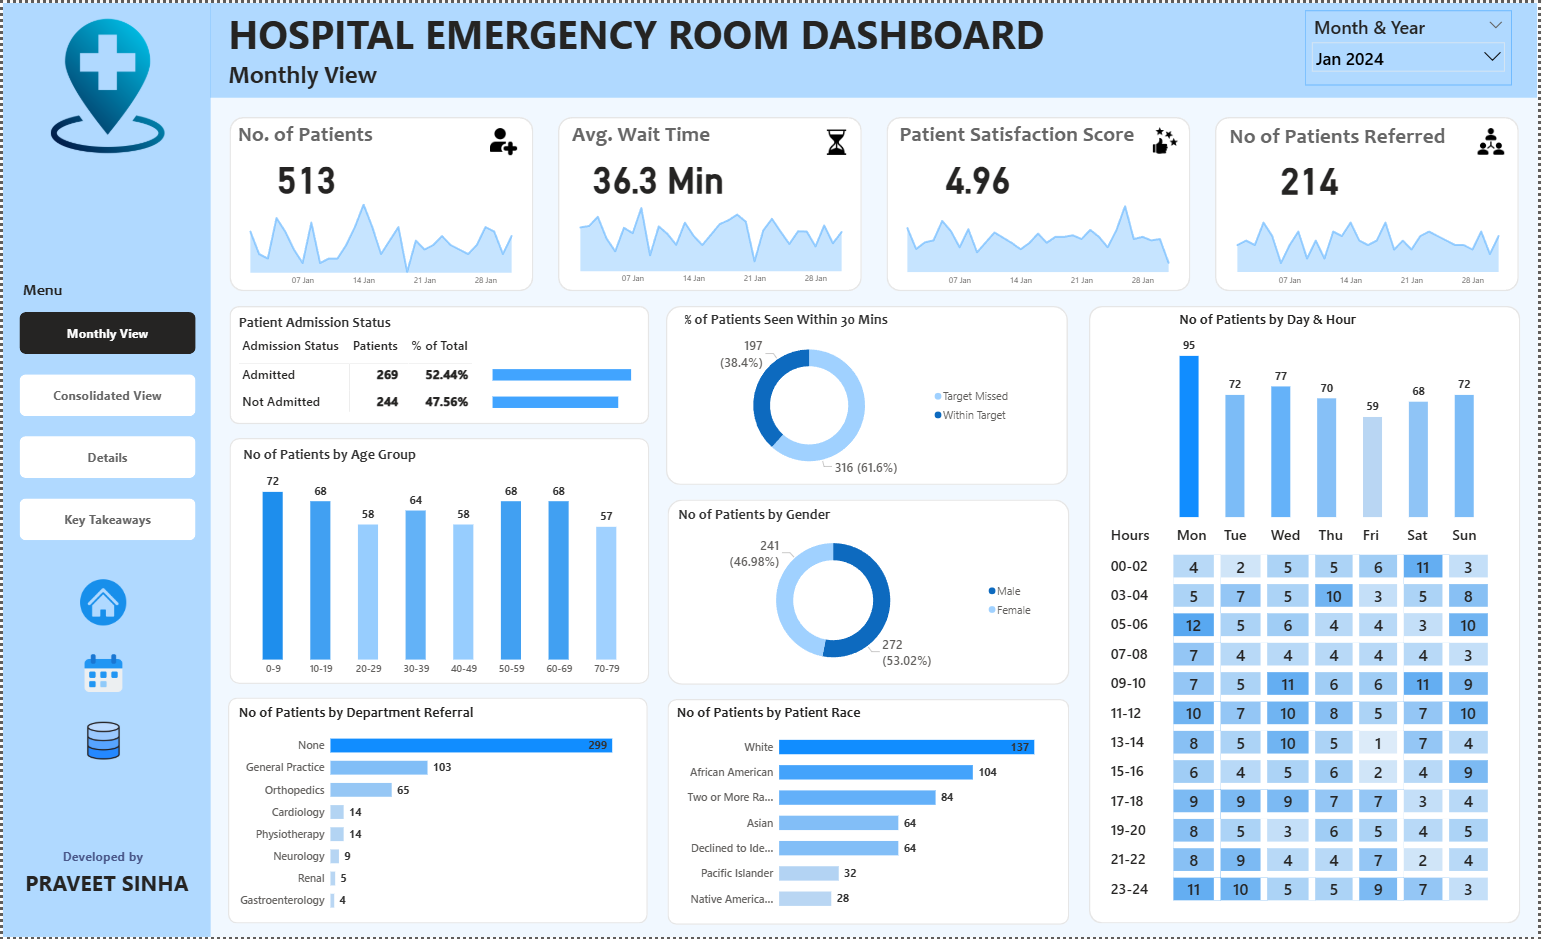

The page's visual inventory and layout, read from the dashboard file:
{"tool":"powerbi","page":{"name":"Monthly View","canvas":[2300,1400],"ordinal":0},"visuals":[{"type":"shape","box":[338.5,171.3,455.5,261.2],"z":0},{"type":"shape","box":[1324.7,171.3,455.5,261.2],"z":1000},{"type":"shape","box":[0,0,311.3,1399.9],"z":2000},{"type":"shape","box":[831.6,171.3,455.5,261.2],"z":3000},{"type":"card","fields":{"Values":["Hospital ER_Hospital ER.No of Patients"]},"box":[374,225.7,160.9,66.9],"z":4000},{"type":"card","fields":{"Values":["Hospital ER_Hospital ER.Avg Wait Time"]},"box":[869.2,225.7,223.6,66.9],"z":5000},{"type":"card","fields":{"Values":["Avg(Hospital ER_Hospital ER.Patient Satisfaction Score)"]},"box":[1381.4,225.6,160.9,66.9],"z":6000},{"type":"shape","box":[1817.8,171.3,455.5,261.2],"z":7000},{"type":"card","fields":{"Values":["Hospital ER_Hospital ER.Measure"]},"box":[1876.7,227.6,160.9,66.9],"z":8000},{"type":"shape","box":[311.3,0,1989.1,142.1],"z":9000},{"type":"slicer","fields":{"Values":["Calendar Table.Month & Year"]},"box":[1950.8,12.2,309.8,112.1],"z":10000},{"type":"textbox","box":[339.2,171.3,227.8,56.5],"z":11000},{"type":"textbox","box":[841.3,171.3,231.1,56.5],"z":12000},{"type":"textbox","box":[1331.2,172,377.5,55.8],"z":13000},{"type":"textbox","box":[1828.2,173.4,344.8,56.4],"z":14000},{"type":"areaChart","fields":{"Category":["Calendar Table.Date.Variation.Date Hierarchy.Year","Calendar Table.Date.Variation.Date Hierarchy.Quarter","Calendar Table.Date.Variation.Date Hierarchy.Month","Calendar Table.Date.Variation.Date Hierarchy.Day"],"Y":["Hospital ER_Hospital ER.No of Patients"]},"box":[348.4,288.1,435.5,145.2],"z":15000},{"type":"areaChart","fields":{"Category":["Calendar Table.Date.Variation.Date Hierarchy.Year","Calendar Table.Date.Variation.Date Hierarchy.Quarter","Calendar Table.Date.Variation.Date Hierarchy.Month","Calendar Table.Date.Variation.Date Hierarchy.Day"],"Y":["Avg(Hospital ER_Hospital ER.Patient Waittime)"]},"box":[842.1,285.9,435.5,145.2],"z":16000},{"type":"areaChart","fields":{"Category":["Calendar Table.Date.Variation.Date Hierarchy.Year","Calendar Table.Date.Variation.Date Hierarchy.Quarter","Calendar Table.Date.Variation.Date Hierarchy.Month","Calendar Table.Date.Variation.Date Hierarchy.Day"],"Y":["Avg(Hospital ER_Hospital ER.Patient Satisfaction Score)"]},"box":[1333.4,290.4,435.5,142.9],"z":17000},{"type":"areaChart","fields":{"Category":["Calendar Table.Date.Variation.Date Hierarchy.Year","Calendar Table.Date.Variation.Date Hierarchy.Quarter","Calendar Table.Date.Variation.Date Hierarchy.Month","Calendar Table.Date.Variation.Date Hierarchy.Day"],"Y":["Hospital ER_Hospital ER.Measure"]},"box":[1827.1,288.1,435.5,145.2],"z":18000},{"type":"textbox","box":[331.7,0,1281,88.9],"z":19000},{"type":"image","box":[46.9,17.9,218.9,212.2],"z":20000},{"type":"image","box":[1222.3,183.9,52.2,48.1],"z":21000},{"type":"image","box":[724.8,183.1,52.8,51.2],"z":22000},{"type":"image","box":[2198,181.8,62.7,50],"z":23000},{"type":"image","box":[1713.3,179.7,58.5,52.2],"z":24000},{"type":"shape","box":[338.9,455,629.1,177.3],"z":25000},{"type":"shape","box":[994.7,455,602.5,268.3],"z":26000},{"type":"shape","box":[1626.9,455,646.4,925.6],"z":27000},{"type":"shape","box":[996.2,743.7,602.5,277.7],"z":28000},{"type":"donutChart","title":"% of Patients Seen Within 30 Mins","fields":{"Y":["Hospital ER_Hospital ER.No of Patients"],"Category":["Hospital ER_Hospital ER.Waittime Status"]},"box":[1016.6,461,504.4,257.6],"z":29000},{"type":"donutChart","title":"No of Patients by Gender","fields":{"Y":["Hospital ER_Hospital ER.No of Patients"],"Category":["Hospital ER_Hospital ER.Full Gender"]},"box":[1007.2,753.1,547.5,257.3],"z":30000},{"type":"shape","box":[338.9,652.7,629.1,368.7],"z":31000},{"type":"pivotTable","title":"Patient Admission Status","fields":{"Rows":["Hospital ER_Hospital ER.Admission Status"],"Values":["Hospital ER_Hospital ER.No of Patients1","Hospital ER_Hospital ER.No of Patients"]},"box":[347.9,465.5,610,158.3],"z":32000},{"type":"barChart","fields":{"Category":["Hospital ER_Hospital ER.Admission Status"],"Y":["Hospital ER_Hospital ER.No of Patients"]},"box":[729.5,514.6,241.6,120.8],"z":33000},{"type":"clusteredColumnChart","fields":{"Category":["Hospital ER_Hospital ER.Age Group"],"Y":["Hospital ER_Hospital ER.No of Patients"]},"box":[354.6,662.7,599.3,354.6],"z":34000},{"type":"shape","box":[337.3,1041.7,629.1,338.9],"z":35000},{"type":"clusteredBarChart","fields":{"Category":["Hospital ER_Hospital ER.Department Referral"],"Y":["Hospital ER_Hospital ER.No of Patients"]},"box":[348.3,1049.6,602.5,324.8],"z":36000},{"type":"shape","box":[996.5,1043,602.2,338.4],"z":37000},{"type":"clusteredBarChart","fields":{"Y":["Hospital ER_Hospital ER.No of Patients"],"Category":["Hospital ER_Hospital ER.Patient Race"]},"box":[1005.8,1049.2,578.9,324.4],"z":38000},{"type":"pivotTable","fields":{"Columns":["Calendar Table.Day Name"],"Rows":["Hospital ER_Hospital ER.Waittime Interval"],"Values":["Hospital ER_Hospital ER.No of Patients"]},"box":[1649.4,776.5,606.9,583.6],"z":39000},{"type":"clusteredColumnChart","title":"No of Patients by Day & Hour","fields":{"Category":["Calendar Table.Day Name"],"Y":["Hospital ER_Hospital ER.No of Patients"]},"box":[1758.7,461.3,453.4,315.3],"z":40000},{"type":"textbox","box":[333.7,79.2,411.3,59],"z":41000},{"type":"pageNavigator","box":[24.2,462.3,264.1,343.1],"z":42000},{"type":"textbox","box":[24.2,409.1,99.9,48.3],"z":43000},{"type":"textbox","box":[77.3,1261.1,146.6,37],"z":44000},{"type":"textbox","box":[25.8,1290.1,262.5,62.8],"z":45000},{"type":"textbox","box":[29,1336.8,257.7,45.1],"z":46000},{"type":"image","box":[110.1,854.1,79.5,87.7],"z":47000},{"type":"image","box":[116.2,966.2,67.3,75.4],"z":48000},{"type":"image","box":[116.2,1068.1,67.3,75.4],"z":49000}]}

Visuals, with their boxes in screenshot pixels (x1, y1, x2, y2), scaled from the page's 2300x1400 canvas onto the 1542x939 screenshot:
shape: left=227, top=115, right=532, bottom=290
shape: left=888, top=115, right=1194, bottom=290
shape: left=0, top=0, right=209, bottom=938
shape: left=558, top=115, right=863, bottom=290
card - Hospital ER_Hospital ER.No of Patients: left=251, top=151, right=359, bottom=196
card - Hospital ER_Hospital ER.Avg Wait Time: left=583, top=151, right=733, bottom=196
card - Avg(Hospital ER_Hospital ER.Patient Satisfaction Score): left=926, top=151, right=1034, bottom=196
shape: left=1219, top=115, right=1524, bottom=290
card - Hospital ER_Hospital ER.Measure: left=1258, top=153, right=1366, bottom=198
shape: left=209, top=0, right=1541, bottom=95
slicer - Calendar Table.Month & Year: left=1308, top=8, right=1516, bottom=83
textbox: left=227, top=115, right=380, bottom=153
textbox: left=564, top=115, right=719, bottom=153
textbox: left=892, top=115, right=1146, bottom=153
textbox: left=1226, top=116, right=1457, bottom=154
areaChart - Calendar Table.Date.Variation.Date Hierarchy.Year x Calendar Table.Date.Variation.Date Hierarchy.Quarter: left=234, top=193, right=526, bottom=291
areaChart - Calendar Table.Date.Variation.Date Hierarchy.Year x Calendar Table.Date.Variation.Date Hierarchy.Quarter: left=565, top=192, right=857, bottom=289
areaChart - Calendar Table.Date.Variation.Date Hierarchy.Year x Calendar Table.Date.Variation.Date Hierarchy.Quarter: left=894, top=195, right=1186, bottom=291
areaChart - Calendar Table.Date.Variation.Date Hierarchy.Year x Calendar Table.Date.Variation.Date Hierarchy.Quarter: left=1225, top=193, right=1517, bottom=291
textbox: left=222, top=0, right=1081, bottom=60
image: left=31, top=12, right=178, bottom=154
image: left=819, top=123, right=854, bottom=156
image: left=486, top=123, right=521, bottom=157
image: left=1474, top=122, right=1516, bottom=155
image: left=1149, top=121, right=1188, bottom=156
shape: left=227, top=305, right=649, bottom=424
shape: left=667, top=305, right=1071, bottom=485
shape: left=1091, top=305, right=1524, bottom=926
shape: left=668, top=499, right=1072, bottom=685
"% of Patients Seen Within 30 Mins" donutChart: left=682, top=309, right=1020, bottom=482
"No of Patients by Gender" donutChart: left=675, top=505, right=1042, bottom=678
shape: left=227, top=438, right=649, bottom=685
"Patient Admission Status" pivotTable: left=233, top=312, right=642, bottom=418
barChart - Hospital ER_Hospital ER.Admission Status x Hospital ER_Hospital ER.No of Patients: left=489, top=345, right=651, bottom=426
clusteredColumnChart - Hospital ER_Hospital ER.Age Group x Hospital ER_Hospital ER.No of Patients: left=238, top=444, right=640, bottom=682
shape: left=226, top=699, right=648, bottom=926
clusteredBarChart - Hospital ER_Hospital ER.Department Referral x Hospital ER_Hospital ER.No of Patients: left=234, top=704, right=637, bottom=922
shape: left=668, top=700, right=1072, bottom=927
clusteredBarChart - Hospital ER_Hospital ER.No of Patients x Hospital ER_Hospital ER.Patient Race: left=674, top=704, right=1062, bottom=921
pivotTable - Calendar Table.Day Name x Hospital ER_Hospital ER.Waittime Interval: left=1106, top=521, right=1513, bottom=912
"No of Patients by Day & Hour" clusteredColumnChart: left=1179, top=309, right=1483, bottom=521
textbox: left=224, top=53, right=499, bottom=93
pageNavigator: left=16, top=310, right=193, bottom=540
textbox: left=16, top=274, right=83, bottom=307
textbox: left=52, top=846, right=150, bottom=871
textbox: left=17, top=865, right=193, bottom=907
textbox: left=19, top=897, right=192, bottom=927
image: left=74, top=573, right=127, bottom=632
image: left=78, top=648, right=123, bottom=699
image: left=78, top=716, right=123, bottom=767
